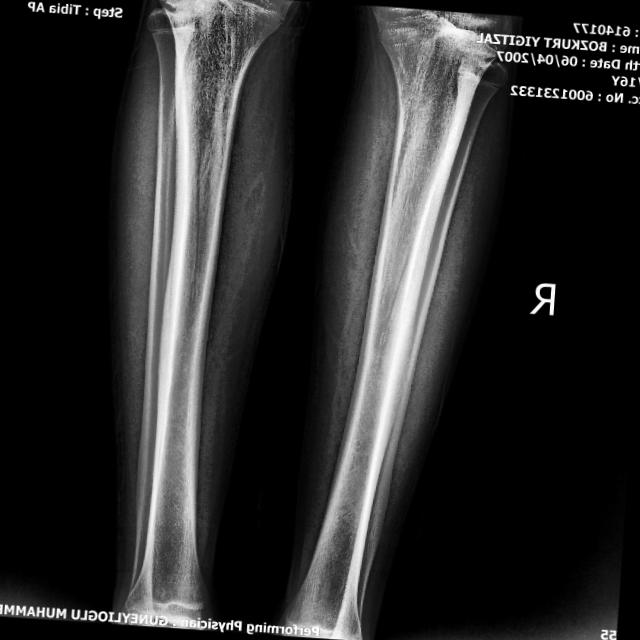Not_Fracture: (72, 0, 526, 640)
